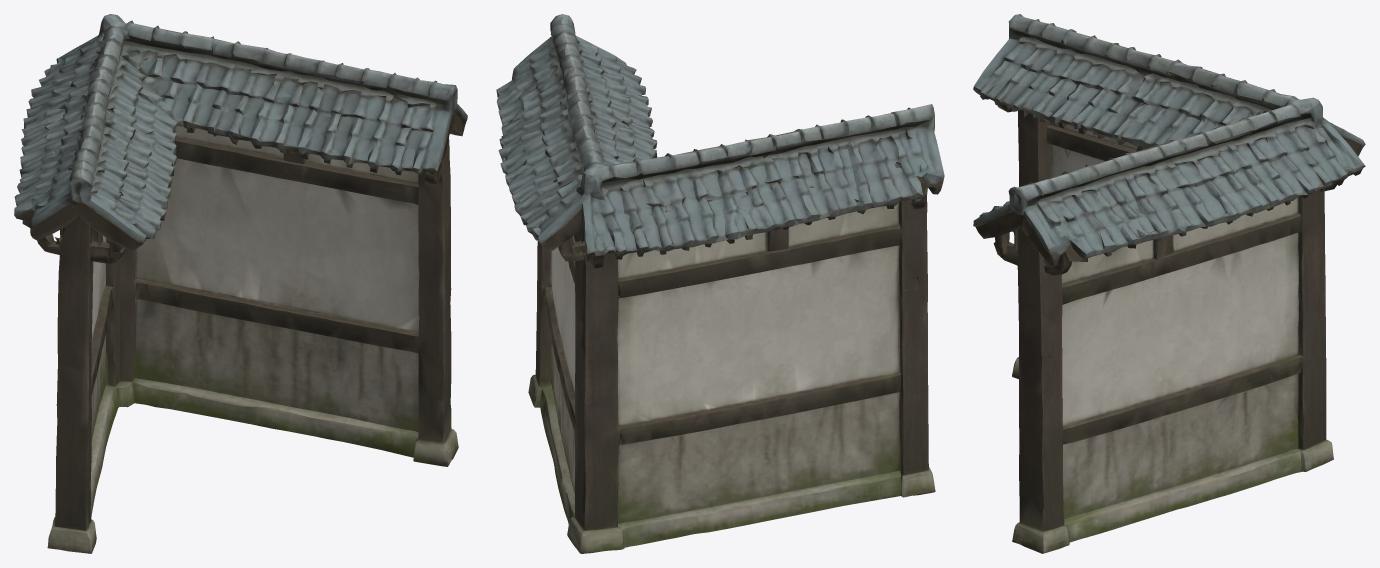
File: ARCH-007.glb
The picture shows the model from 3 angles, left to right: view 1: azimuth 30°, elevation 25°; view 2: azimuth 150°, elevation 25°; view 3: azimuth 270°, elevation 25°; orthographic projection. The views are drawn at different scales.
Parts seen in each view (by area): view 1: world; view 2: world; view 3: world.
Part boxes in pixels (x1,y1,x2,y2): world: (14,14,467,553); world: (496,14,944,553); world: (973,14,1365,553).
Bounding box in the file's own units: 3 × 2.5 × 2.47.
1 material, 1 textured.
